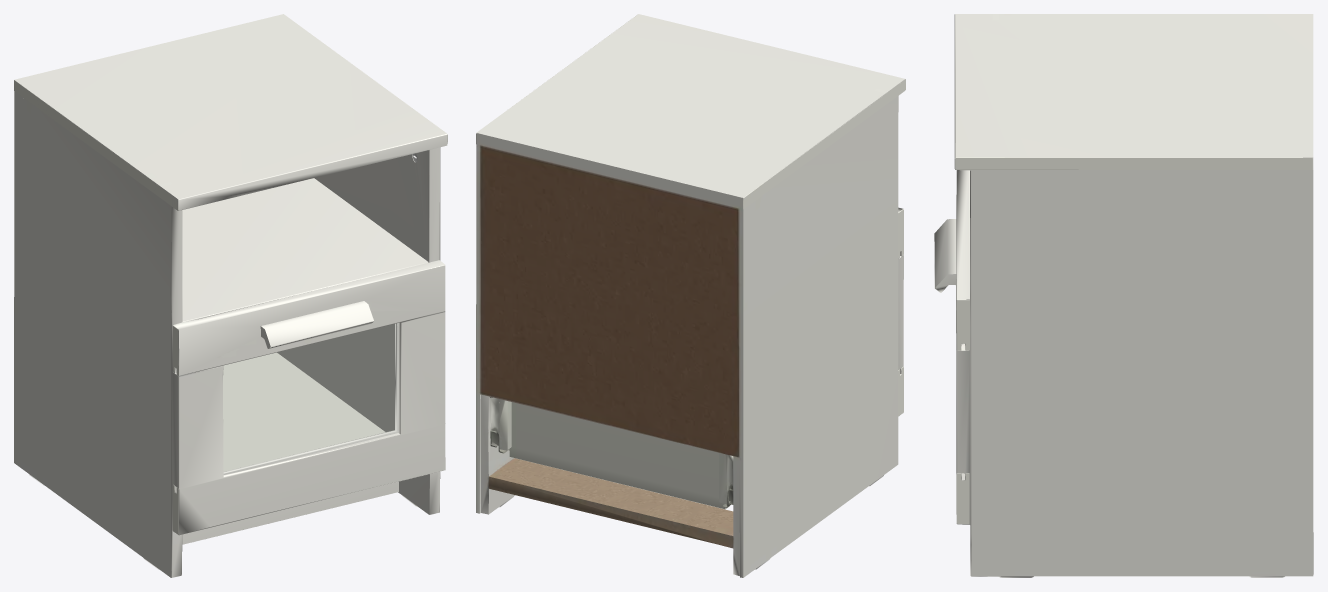
File: brimnes-mesita-de-noche-blanco.glb
The picture shows the model from 3 angles, left to right: view 1: azimuth 30°, elevation 25°; view 2: azimuth 150°, elevation 25°; view 3: azimuth 270°, elevation 25°; orthographic projection. The views are drawn at different scales.
Visible parts, largest first — view 1: ProcessedMeshNode, 2; view 2: ProcessedMeshNode, 2; view 3: ProcessedMeshNode, 2.
Part boxes in pixels (x1,y1,x2,y2): ProcessedMeshNode: (14, 14, 447, 577); 2: (14, 80, 447, 534); ProcessedMeshNode: (476, 14, 905, 577); 2: (476, 14, 905, 416); ProcessedMeshNode: (934, 14, 1313, 577); 2: (954, 157, 1313, 524).
Bounding box in the file's own units: 0.391 × 0.5342 × 0.4355.
2 materials, 2 textured.
